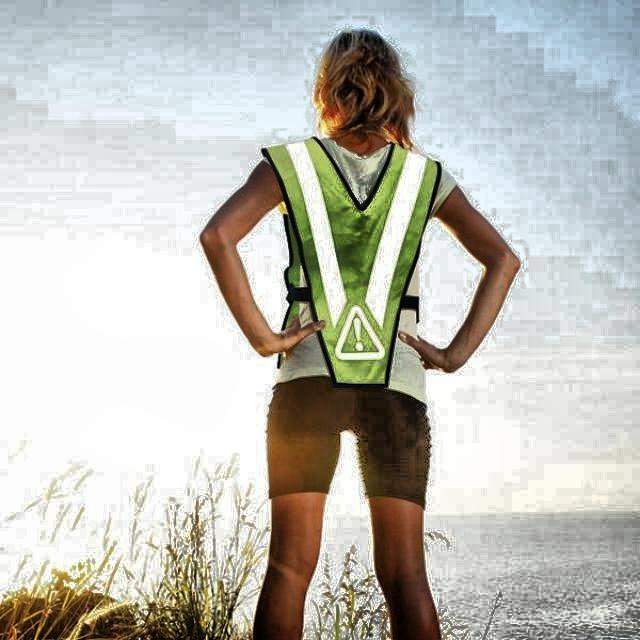safety_jacket: (286, 144, 424, 390)
